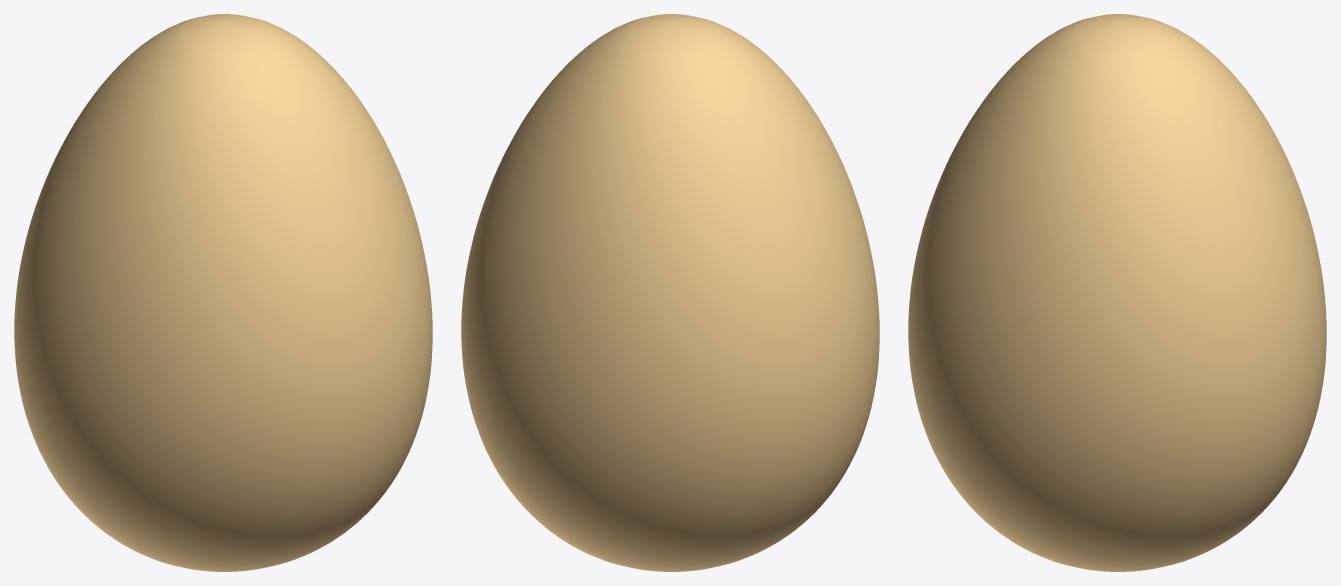
File: impact_egg_intact.glb
3 renders of one model, left to right at view 1: azimuth 30°, elevation 25°; view 2: azimuth 150°, elevation 25°; view 3: azimuth 270°, elevation 25°, orthographic.
Parts seen in each view (by area): view 1: Egg_Intact; view 2: Egg_Intact; view 3: Egg_Intact.
Boxes of the visible parts, left/top/right/bottom form: Egg_Intact: left=14, top=14, right=432, bottom=571; Egg_Intact: left=461, top=14, right=879, bottom=571; Egg_Intact: left=908, top=14, right=1326, bottom=571.
Size of the model in its own units: 0.9735 by 1.36 by 0.9734.
